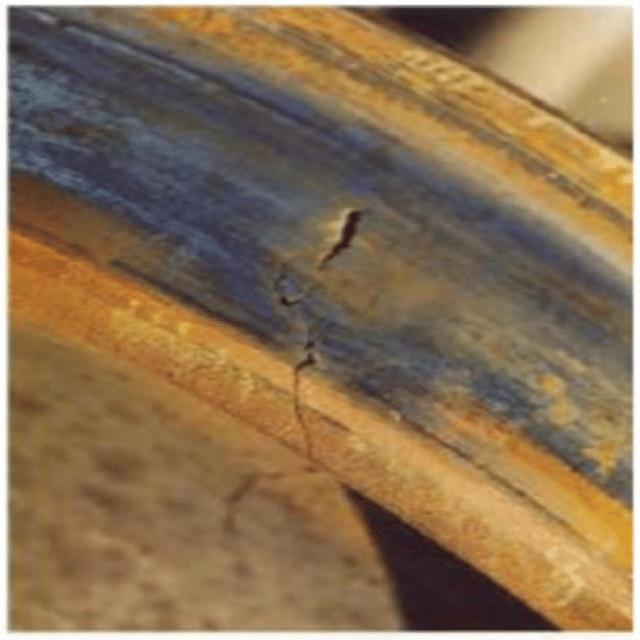Brake_Thermal_Cracks: (147, 176, 534, 496)
